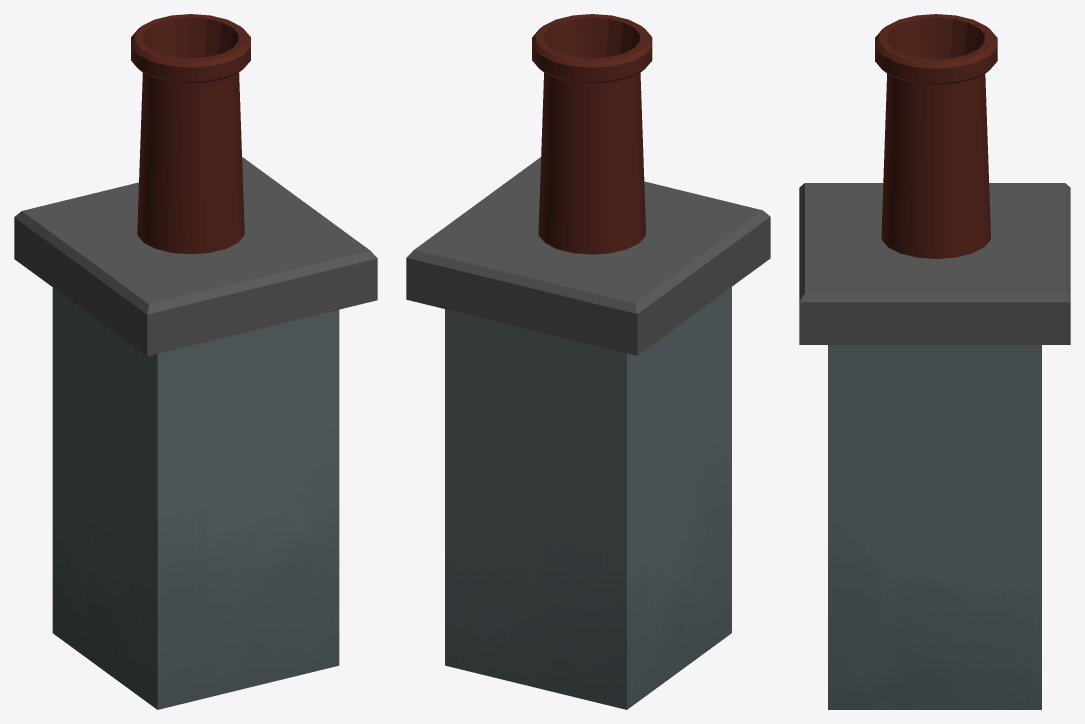
The model's file is m_cheminee_haute.FBX.
The picture shows the model from 3 angles, left to right: view 1: azimuth 30°, elevation 25°; view 2: azimuth 150°, elevation 25°; view 3: azimuth 270°, elevation 25°; orthographic projection.
Parts seen in each view (by area): view 1: cheminee_haute; view 2: cheminee_haute; view 3: cheminee_haute.
Boxes of the visible parts, x1,y1,x2,y2 form: cheminee_haute: (14, 14, 377, 709); cheminee_haute: (406, 14, 770, 709); cheminee_haute: (799, 14, 1070, 709).
Bounding box in the file's own units: 25.36 × 64.32 × 25.36.
